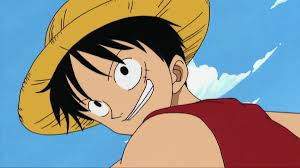luffy: (16, 1, 211, 137)
